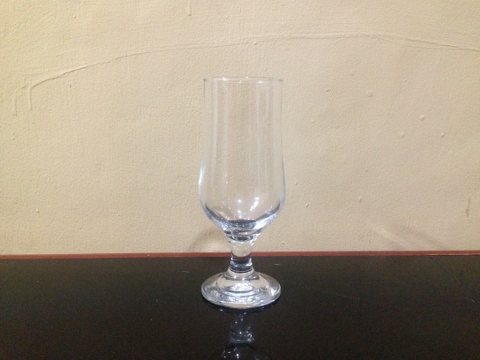tempat minum: (198, 77, 286, 308)
